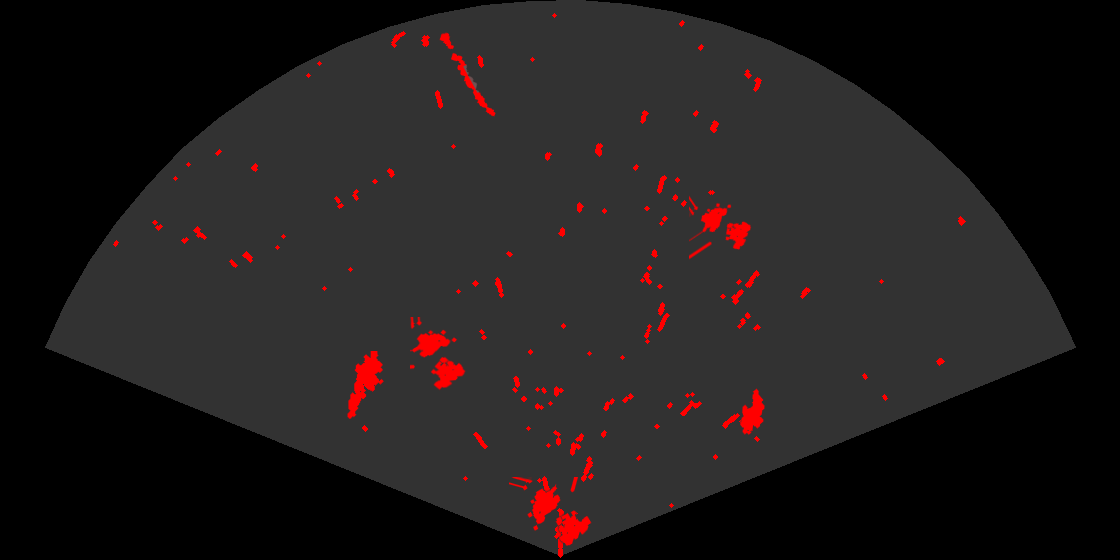AUV: (739, 387, 766, 436)
cage: (509, 477, 593, 547), (689, 194, 753, 261), (410, 317, 467, 392)
chain: (438, 31, 497, 118)
frogman: (346, 351, 385, 419)
